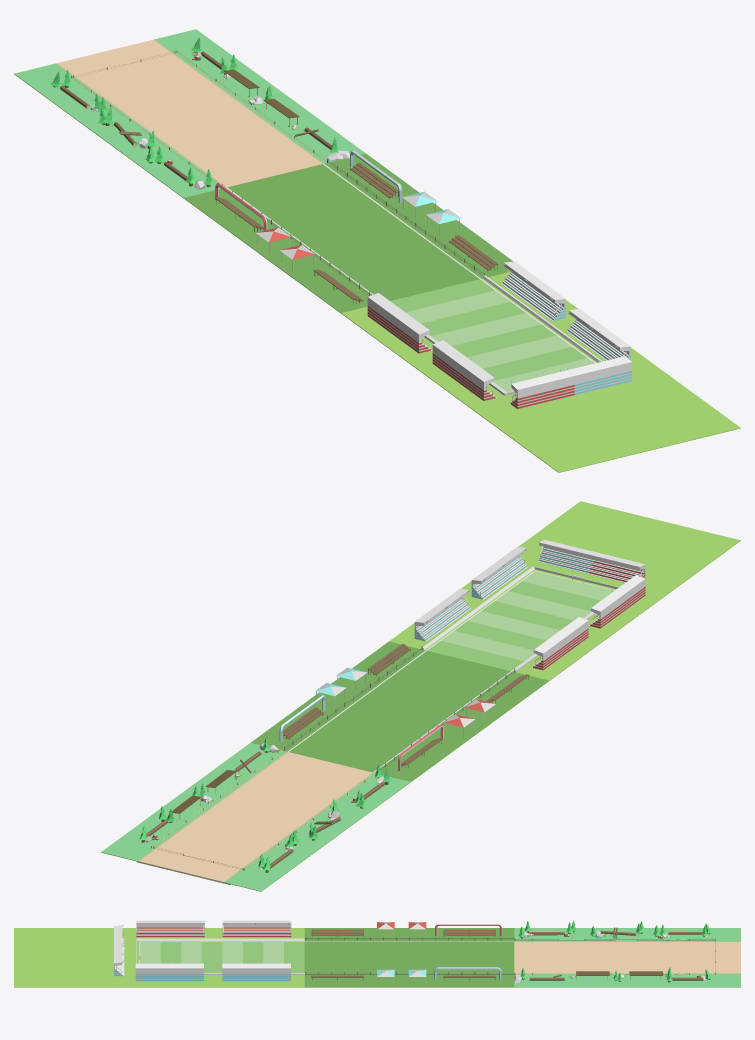
The model's file is Estadio_1 (1) 1.fbx.
The picture shows the model from 3 angles, top to bottom: view 1: azimuth 30°, elevation 25°; view 2: azimuth 150°, elevation 25°; view 3: azimuth 270°, elevation 25°; orthographic projection. The views are drawn at different scales.
Parts seen in each view (by area): view 1: Cube, Cube.008, Cube.010, Cube.005, Cube.006, Cube.009, Cube.007; view 2: Cube, Cube.006, Cube.008, Cube.010, Cube.005, Cube.007, Cube.009; view 3: Cube, Cube.008, Cube.006, Cube.010, Cube.005, Cube.001, Cube.007, Cylinder.365, Cylinder.366, Cube.009, Cylinder.153, Cylinder.155.
Boxes of the visible parts, x1,y1,x2,y2 form: Cube: (14, 29, 740, 472); Cube.008: (501, 261, 565, 321); Cube.010: (367, 293, 432, 353); Cube.005: (432, 340, 496, 400); Cube.006: (566, 309, 630, 360); Cube.009: (510, 370, 574, 409); Cube.007: (569, 356, 631, 395); Cube: (101, 501, 740, 891); Cube.006: (471, 547, 528, 599); Cube.008: (414, 589, 471, 641); Cube.010: (532, 617, 588, 670); Cube.005: (589, 575, 645, 628); Cube.007: (538, 539, 594, 573); Cube.009: (588, 552, 645, 582); Cube: (14, 928, 740, 987); Cube.008: (222, 963, 290, 981); Cube.006: (135, 963, 203, 981); Cube.010: (222, 920, 291, 937); Cube.005: (136, 920, 204, 937); Cube.001: (136, 938, 304, 940); Cube.007: (114, 944, 124, 976); Cylinder.365: (435, 923, 502, 935); Cylinder.366: (434, 967, 501, 979); Cube.009: (114, 925, 124, 957); Cylinder.153: (306, 938, 513, 938); Cylinder.155: (306, 940, 513, 940).
Size of the model in its own units: 8868 by 846 by 27864.
